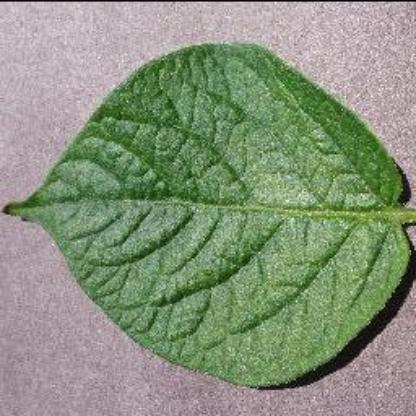Healthy-plant: (5, 18, 413, 392)
